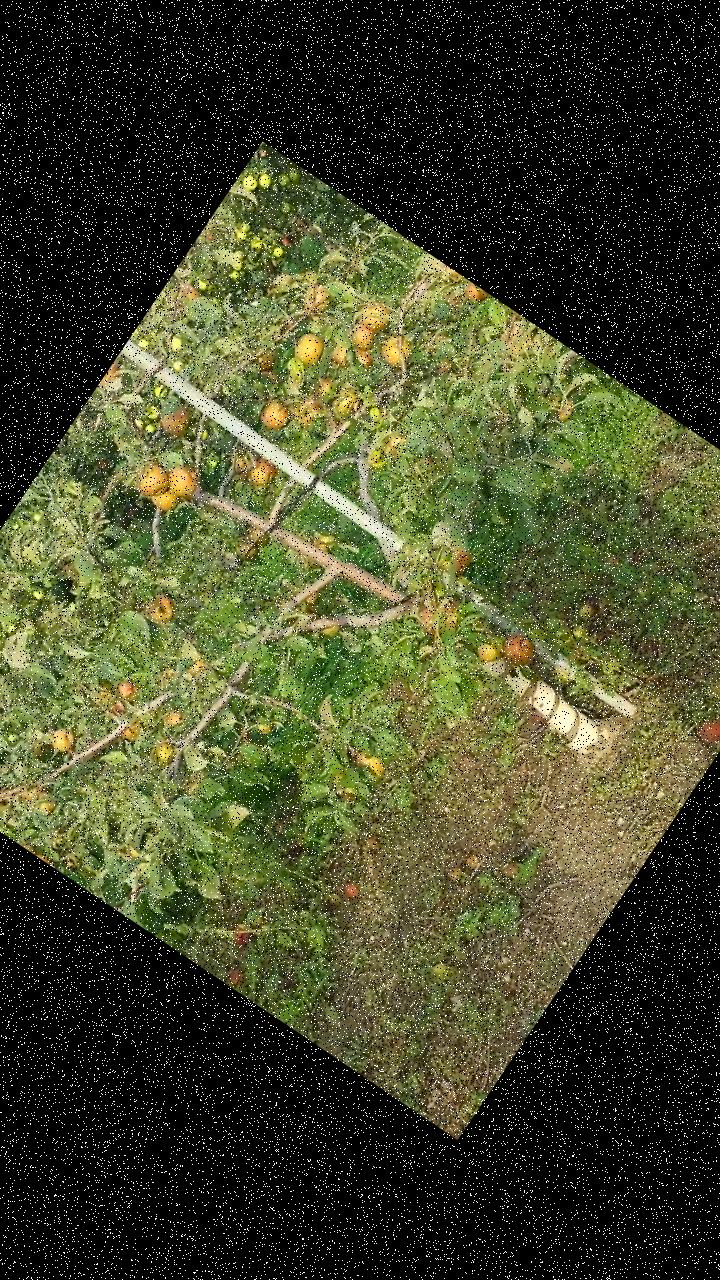Apple: (126, 452, 176, 503), (287, 324, 331, 370), (354, 294, 398, 336), (496, 627, 540, 669), (374, 330, 417, 372), (162, 458, 204, 499), (434, 540, 474, 580), (138, 588, 178, 626), (255, 396, 293, 434), (158, 402, 195, 441), (470, 633, 508, 669), (286, 395, 323, 431), (350, 746, 388, 779), (44, 722, 80, 756), (329, 384, 362, 420), (244, 456, 278, 490), (345, 320, 379, 354), (412, 602, 446, 636), (377, 428, 410, 463), (150, 484, 182, 517), (225, 452, 255, 484), (16, 776, 46, 808), (32, 786, 62, 818), (458, 280, 490, 310), (302, 286, 332, 316), (117, 716, 146, 746), (172, 277, 201, 305), (308, 374, 335, 404), (254, 344, 280, 374), (437, 598, 464, 625), (244, 524, 272, 550), (327, 342, 354, 368), (236, 538, 262, 564), (151, 736, 177, 762), (105, 697, 130, 723), (352, 346, 378, 370), (301, 582, 325, 608), (320, 616, 344, 642), (186, 654, 210, 679), (162, 706, 187, 730), (254, 714, 278, 739), (114, 676, 138, 700), (98, 362, 120, 388), (260, 364, 282, 386), (122, 841, 144, 862), (32, 847, 54, 865)
